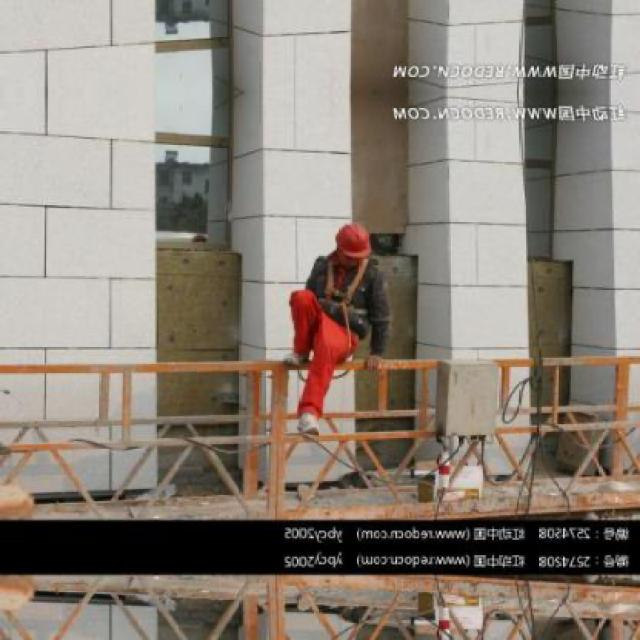con casco: (305, 214, 389, 294)
